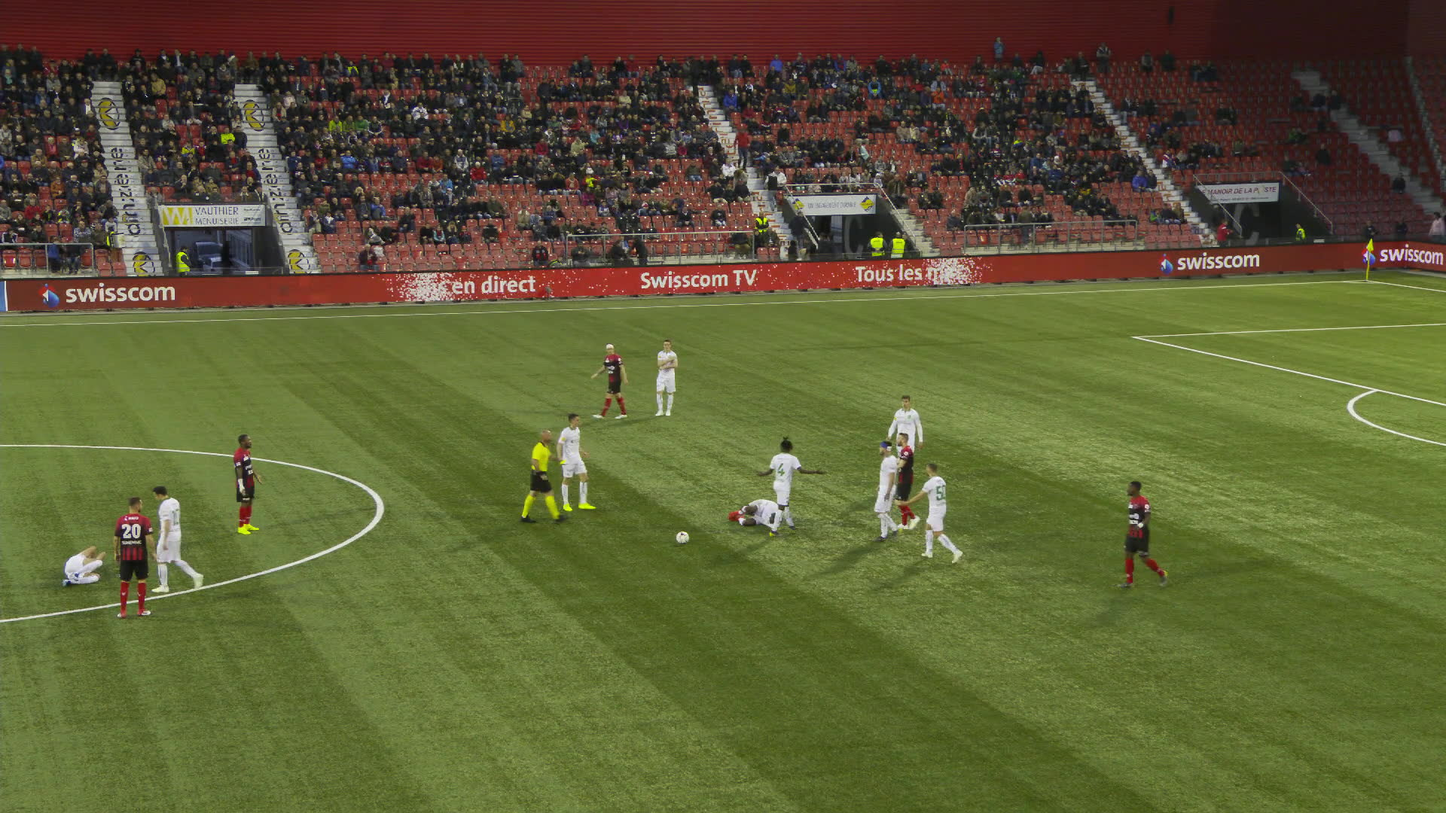ball: (676, 531, 688, 541)
player: (755, 436, 827, 537), (893, 462, 963, 564), (1115, 480, 1168, 589), (151, 484, 204, 592), (112, 496, 158, 618), (557, 413, 598, 511), (886, 394, 923, 489), (889, 431, 920, 532), (590, 343, 628, 419), (872, 440, 900, 542), (232, 432, 259, 535), (59, 544, 107, 586), (727, 498, 787, 531), (654, 340, 678, 416)
referee: (520, 428, 568, 522)
